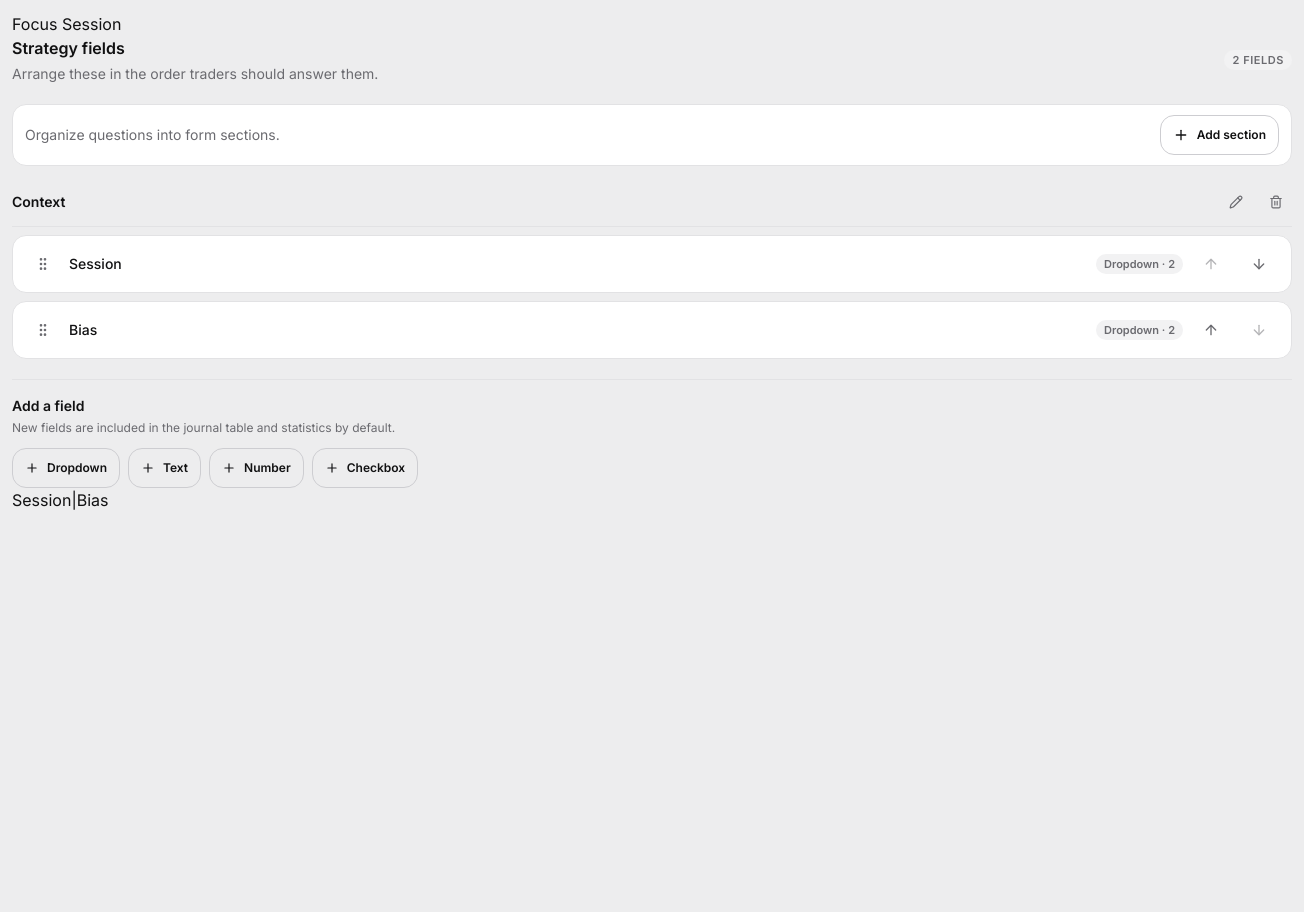
TemplateFieldEditorList › creates a named section with an editable starter field
Click the button "Add section".
click(1219, 135)  # box [1160, 115, 1279, 155]
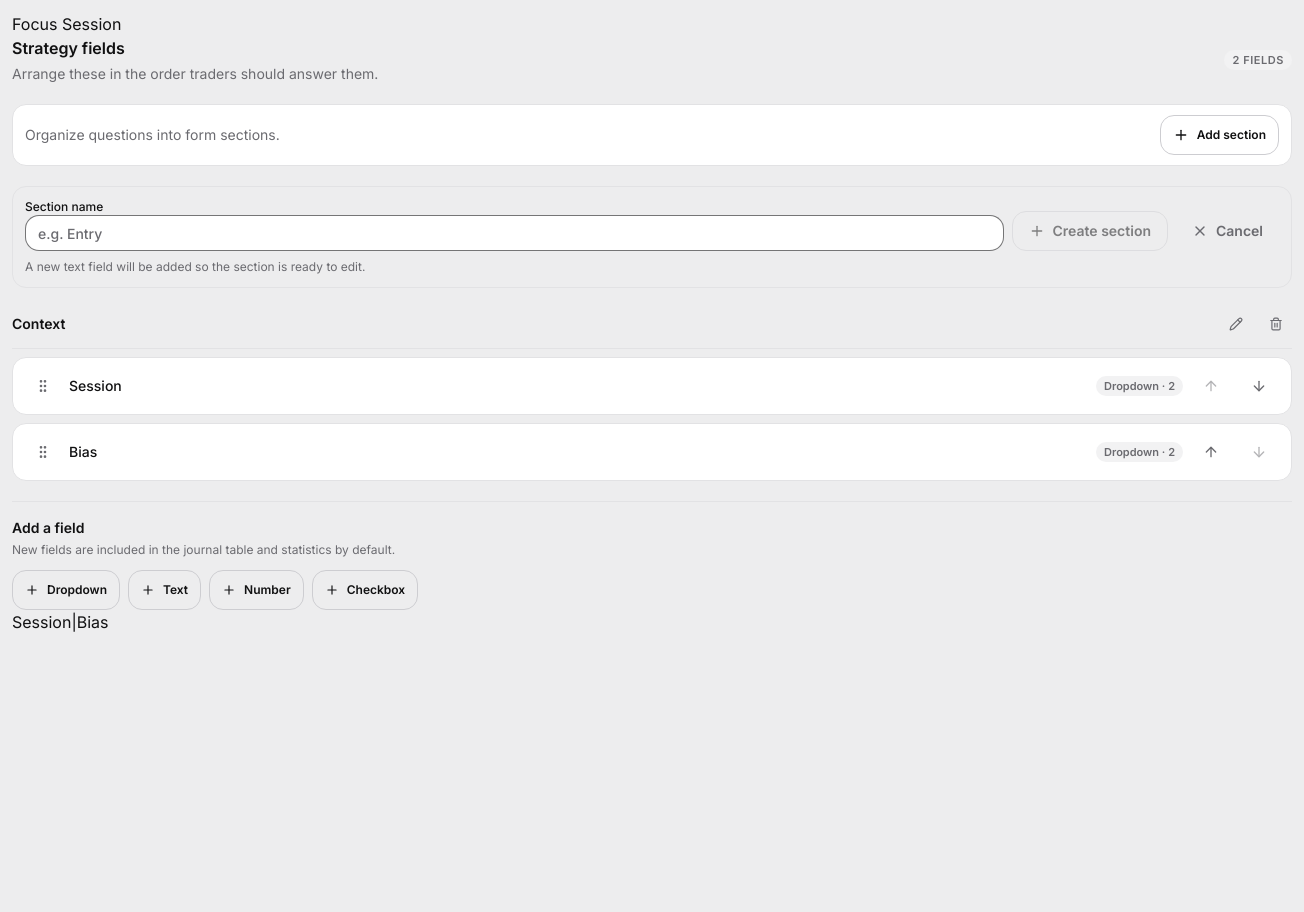
Type "Entry" into the field named "New section name".
click(514, 233); type("Entry")  # box [25, 215, 1004, 251]
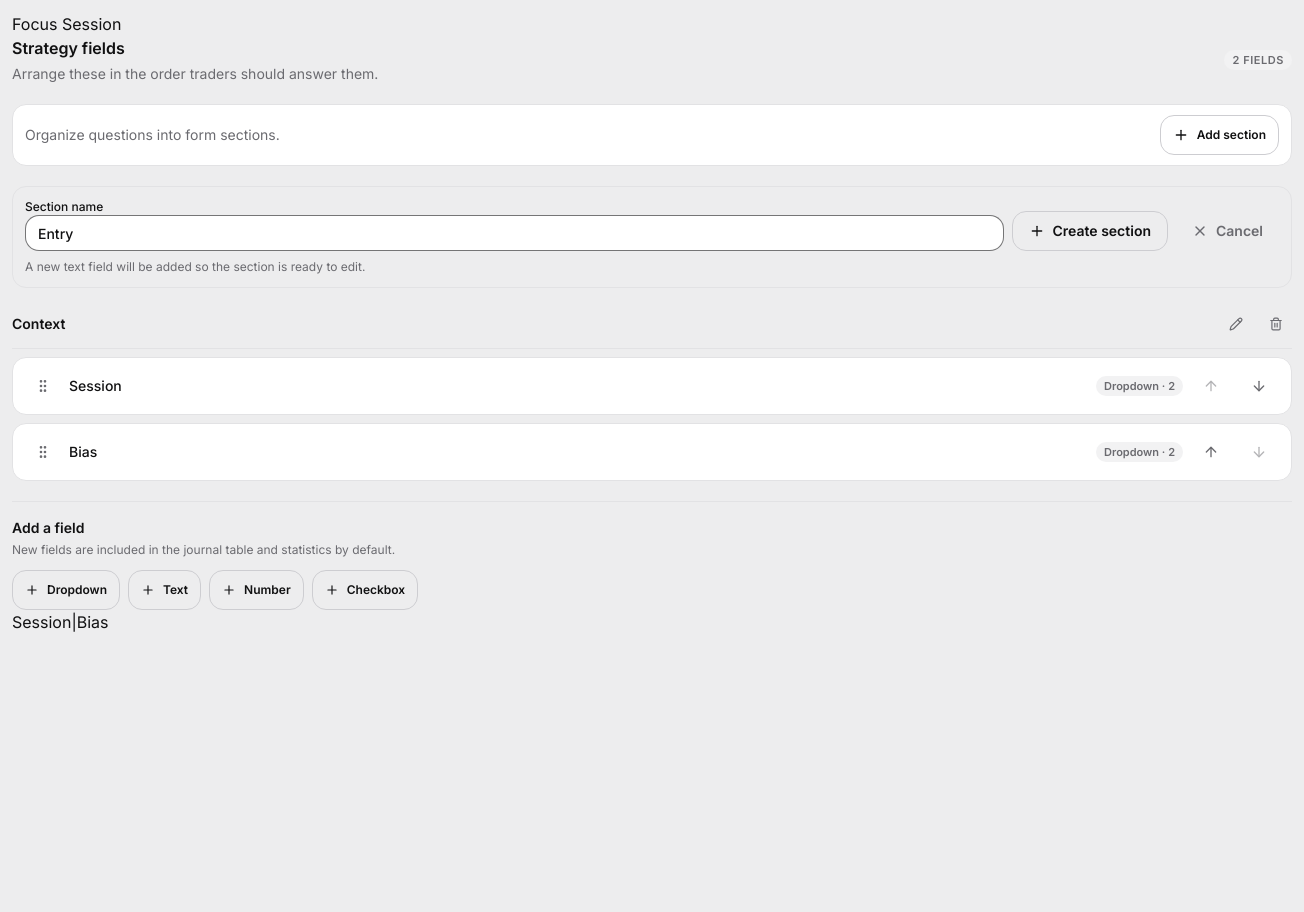
Click the button "Create section".
click(1090, 231)  # box [1012, 211, 1168, 251]
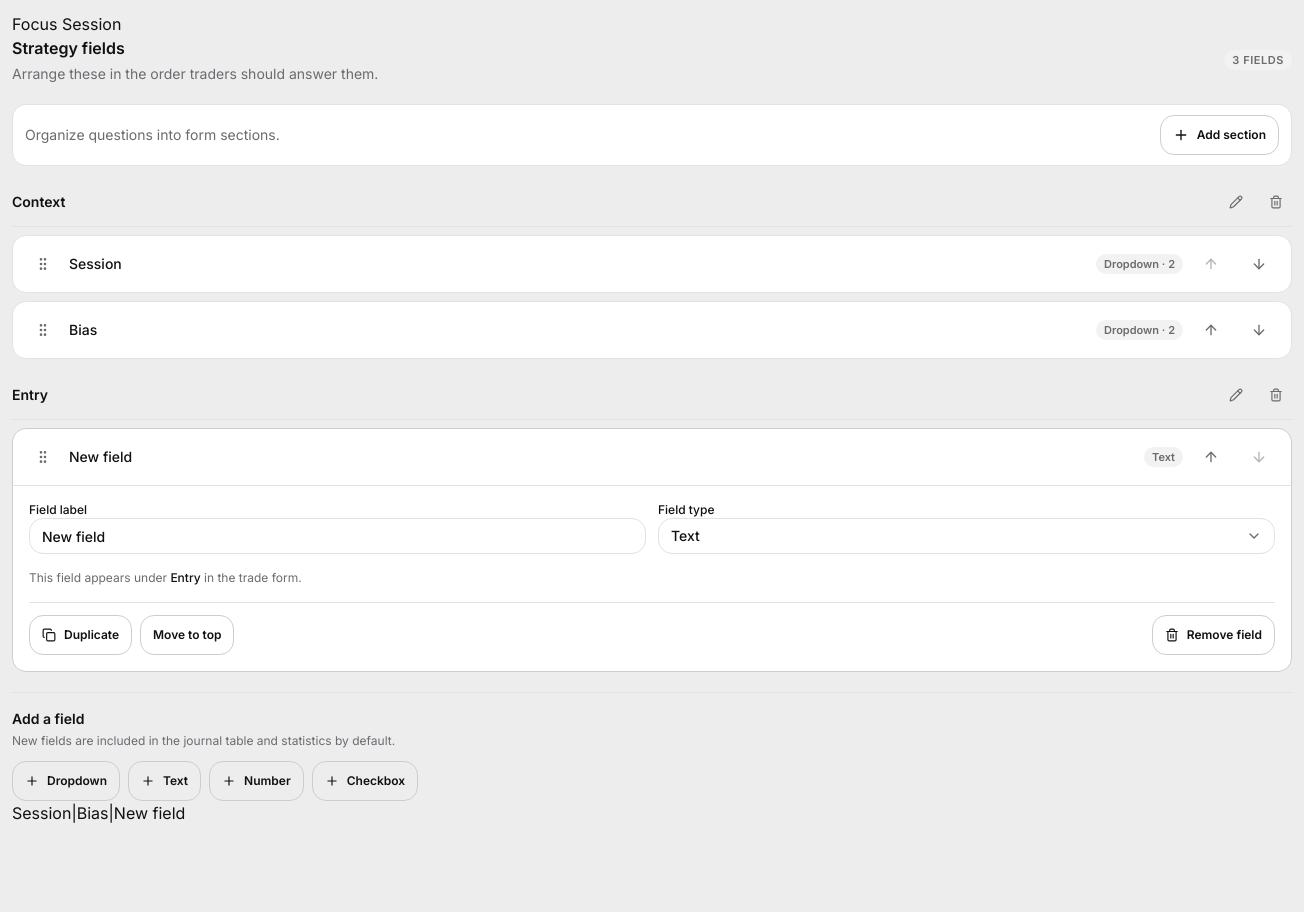
Expected: the element named "Entry fields" is shown, [12, 379, 1292, 672]
Expected: the field named "Label for New field" is shown, [29, 518, 646, 554]
